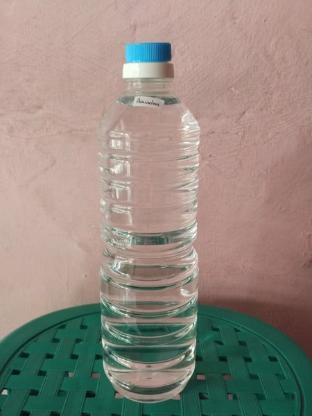Plastic Bottle: (96, 41, 200, 402)
